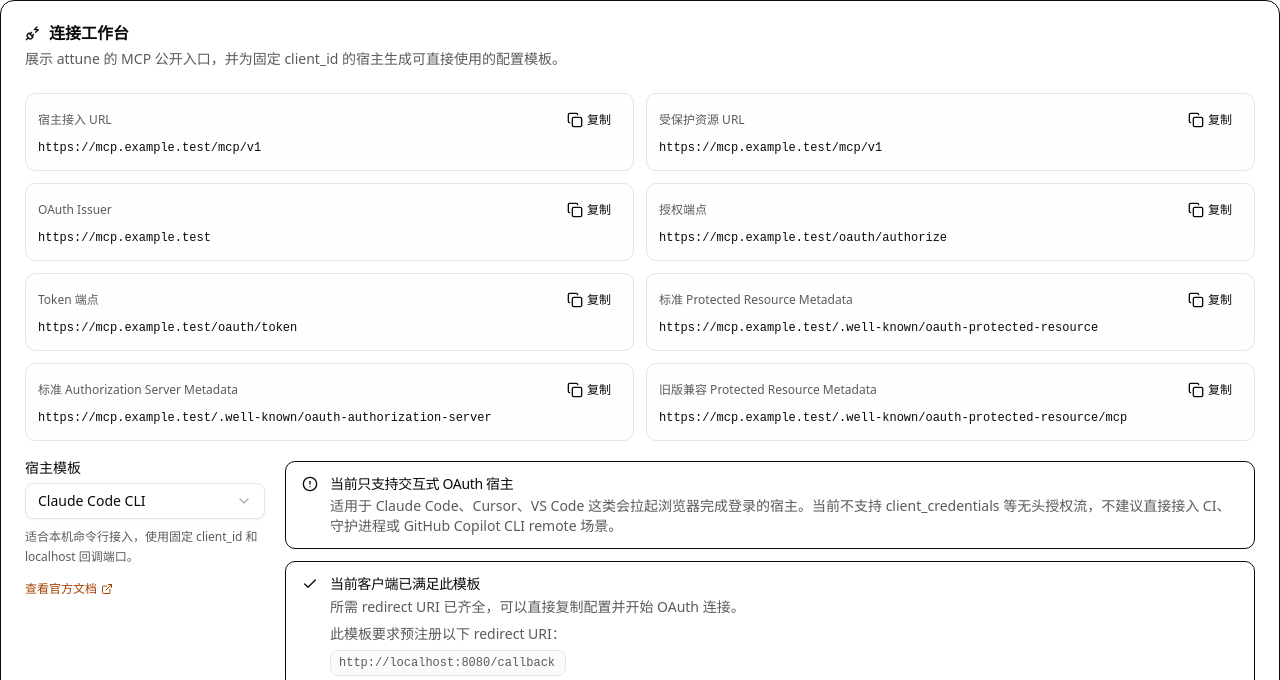
it: ConnectionWorkspaceCard › copies endpoints and switches to the curl diagnostic template
Expected: the text "当前客户端已满足此模板" is shown, [330,574,480,593]
Click the button "复制" in the row of "宿主接入 URL". click: (589, 120)
box: [557,106,621,134]
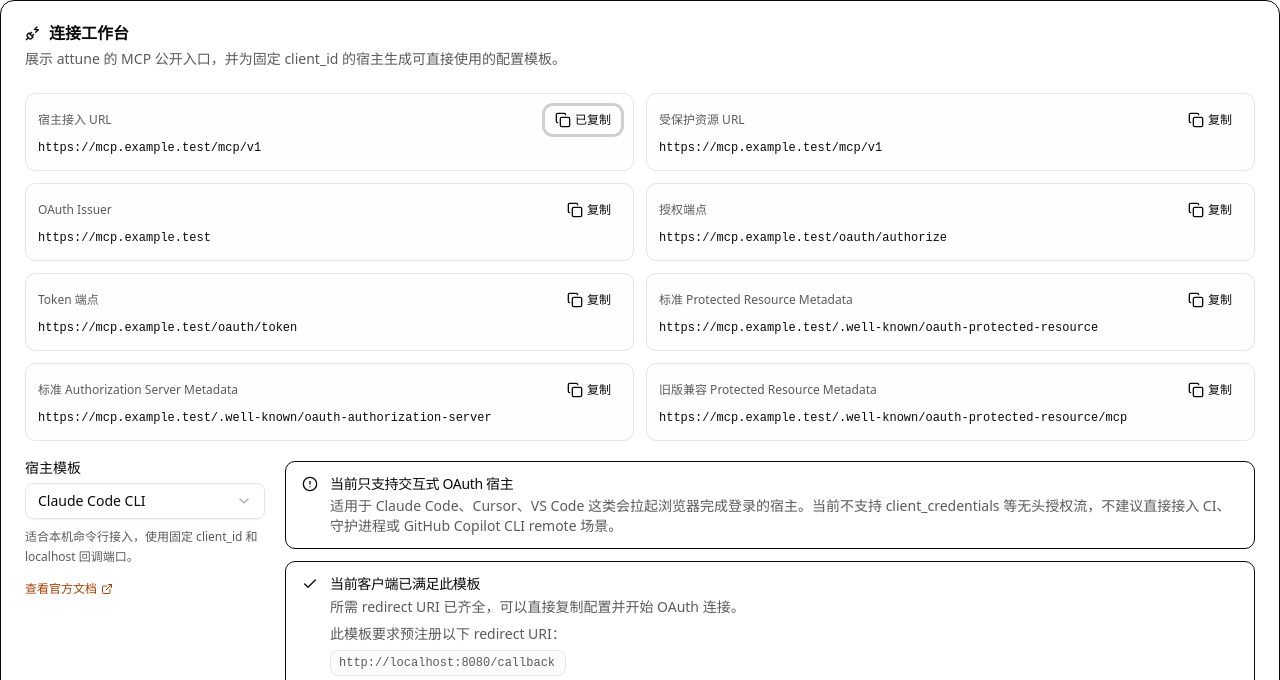
Click the dropdown named "宿主模板". click: (145, 501)
box: [25,483,265,519]
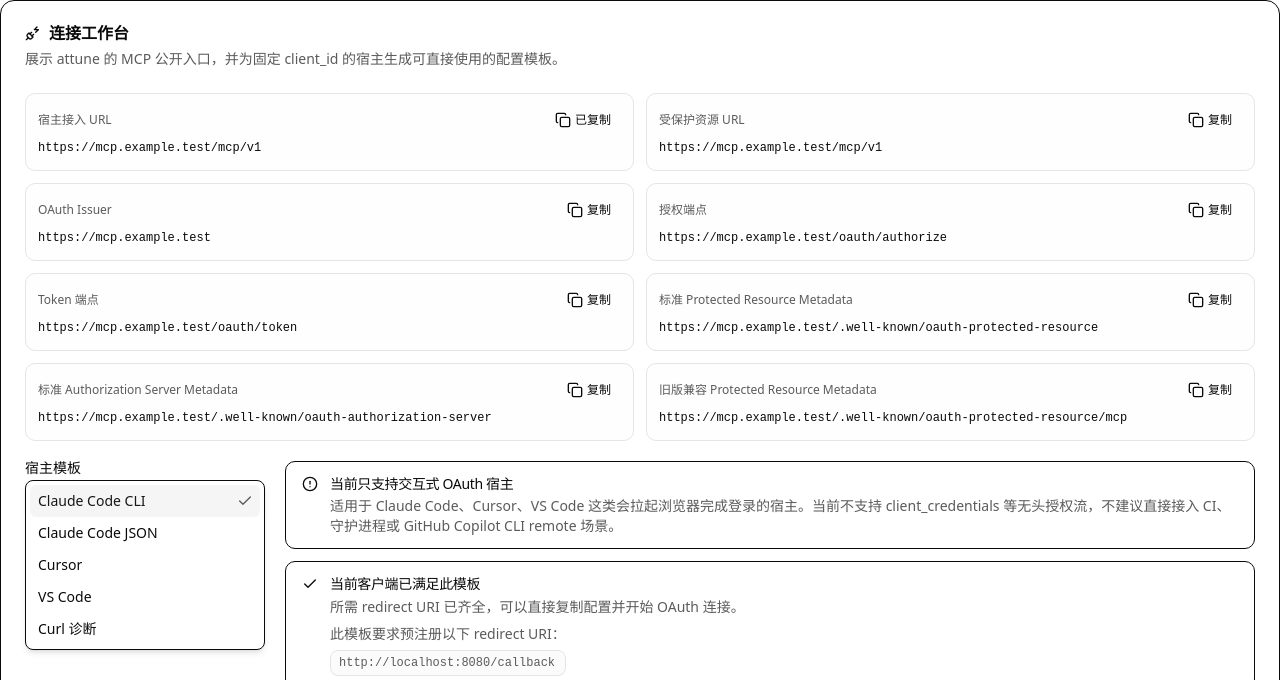
Click the option "Curl 诊断". click: (67, 628)
box: [38,619,96,638]
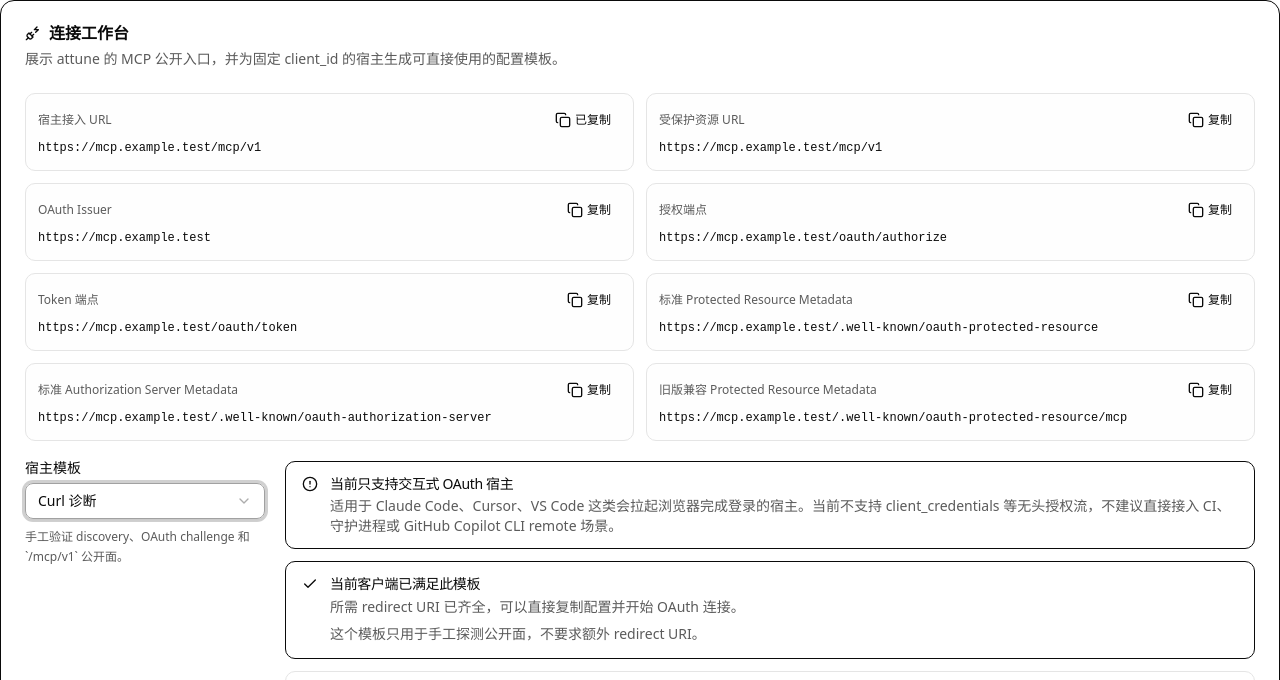
Expected: the text "这个模板只用于手工探测公开面，不要求额外 redirect URI。" is shown, [330,623,706,646]
